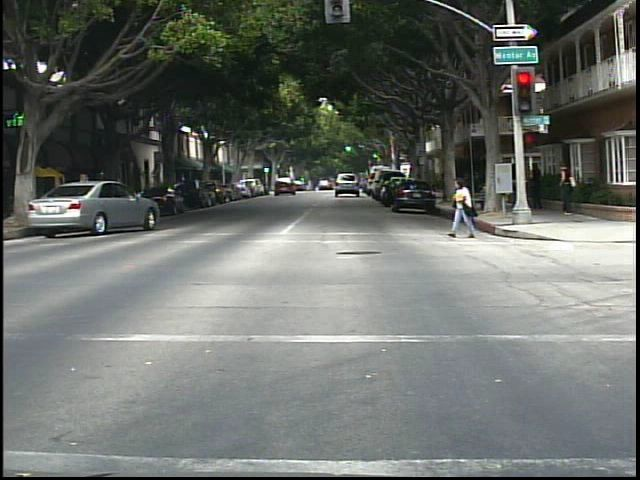person: (446, 176, 482, 244), (556, 156, 582, 217), (529, 158, 551, 215)
